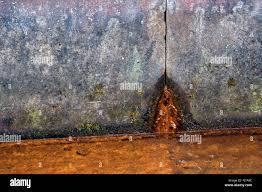Corrosion: (1, 126, 262, 174), (153, 84, 181, 126)
Crack: (162, 1, 168, 84)
